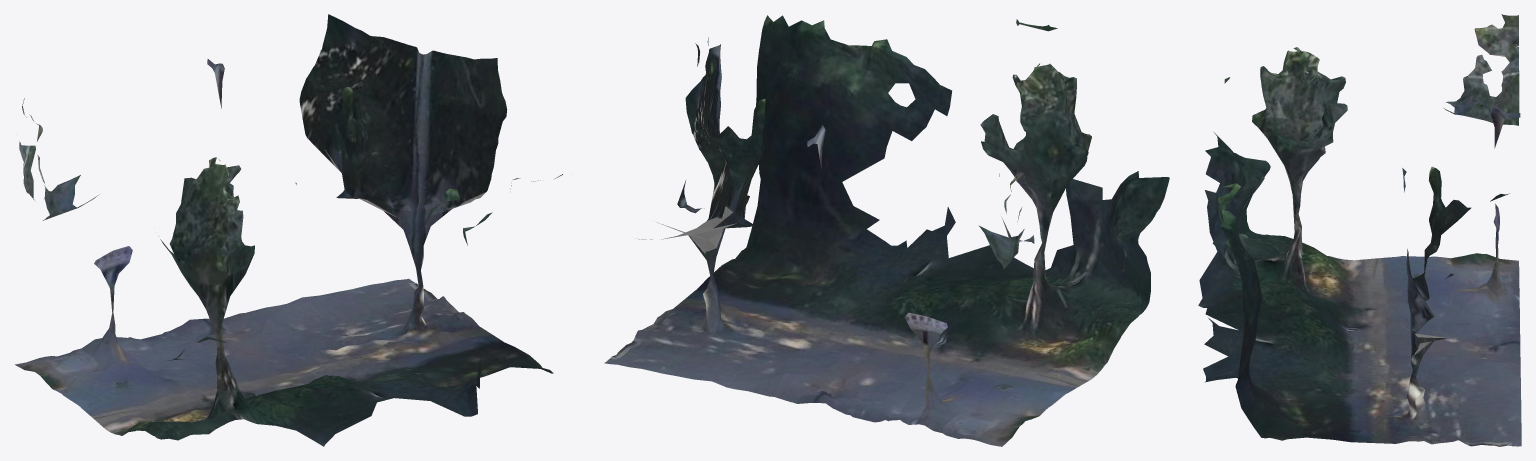
The model's file is Tile_+006_+007_L22_0002020.glb.
3 views of the same model, side by side, from view 1: azimuth 30°, elevation 25°; view 2: azimuth 150°, elevation 25°; view 3: azimuth 270°, elevation 25° (orthographic). The views are drawn at different scales.
Visible parts, largest first — view 1: rtc; view 2: rtc; view 3: rtc.
Part boxes in pixels (x1,y1,x2,y2): rtc: (15, 14, 562, 446); rtc: (604, 15, 1169, 446); rtc: (1198, 14, 1521, 446).
Size of the model in its own units: 8.86 by 6.06 by 6.89.
1 material, 1 textured.
